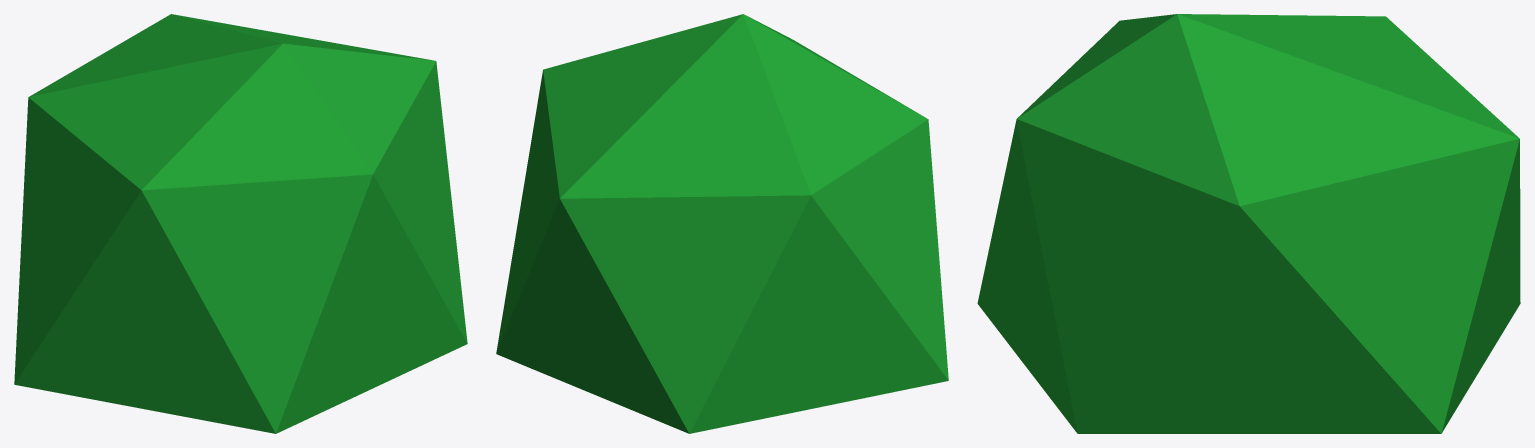
Rendered from brush.fbx.
The picture shows the model from 3 angles, left to right: view 1: azimuth 30°, elevation 25°; view 2: azimuth 150°, elevation 25°; view 3: azimuth 270°, elevation 25°; orthographic projection. The views are drawn at different scales.
Parts seen in each view (by area): view 1: Icosphere.020; view 2: Icosphere.020; view 3: Icosphere.020.
Part boxes in pixels (x1,y1,x2,y2): Icosphere.020: (14, 14, 467, 433); Icosphere.020: (496, 14, 948, 433); Icosphere.020: (977, 14, 1520, 433).
Bounding box in the file's own units: 311 × 221 × 306.
